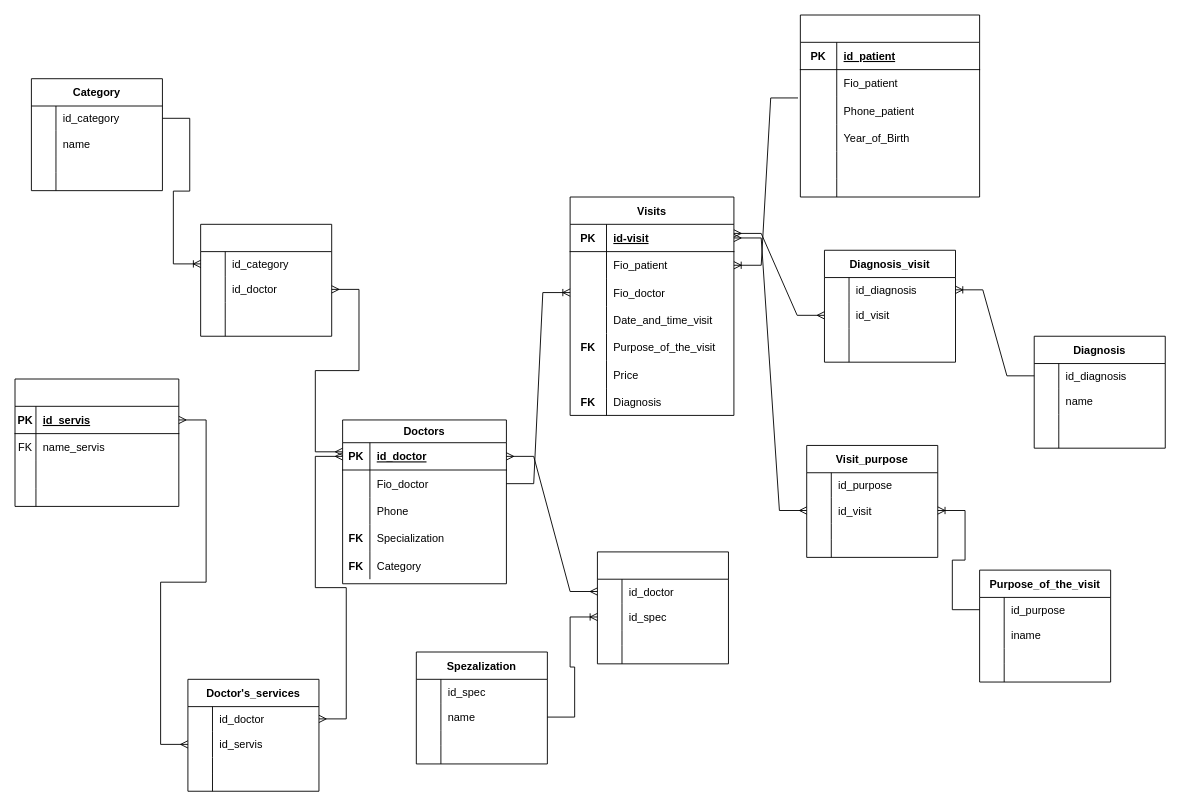
This 1180x806 diagram has some shape labels left out. Each missing label, with the box of its shape:
Doctors_category: (200, 223, 332, 336)
Doctors_Spec: (597, 551, 728, 664)
Patients: (799, 14, 980, 197)
Servises: (14, 378, 179, 506)
